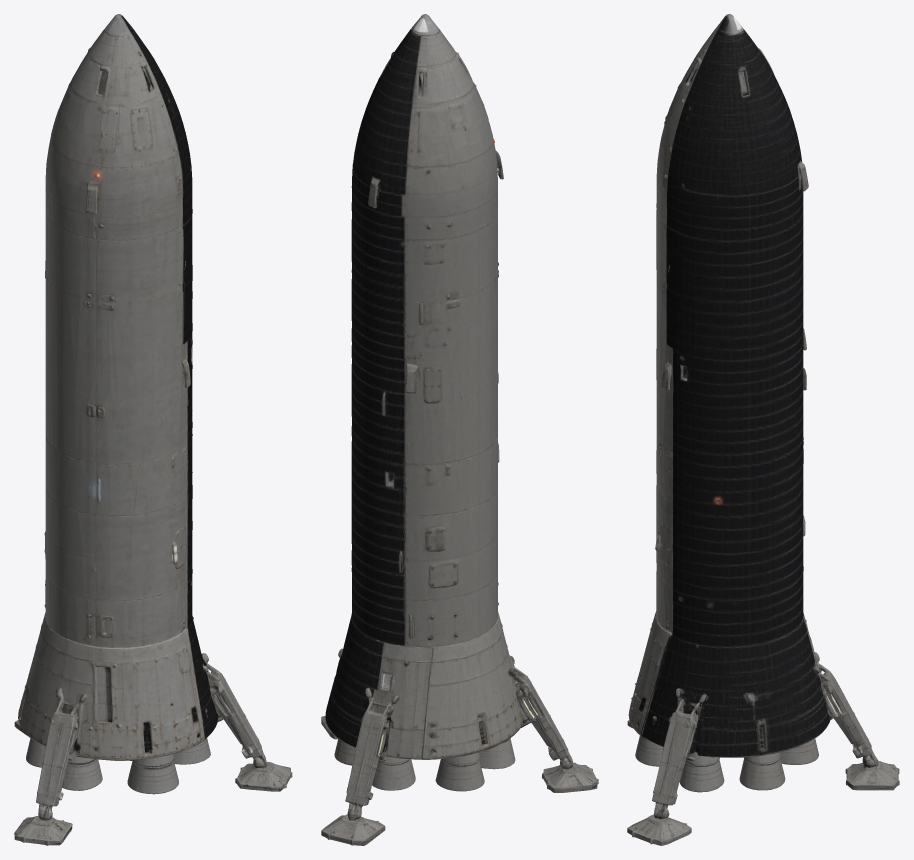
File: parallax-rocket-web.glb
The picture shows the model from 3 angles, left to right: view 1: azimuth 30°, elevation 25°; view 2: azimuth 150°, elevation 25°; view 3: azimuth 270°, elevation 25°; orthographic projection.
Parts seen in each view (by area): view 1: output_unwrapped; view 2: output_unwrapped; view 3: output_unwrapped.
Part boxes in pixels (<box>): output_unwrapped: <box>14,14,292,845</box>; output_unwrapped: <box>321,14,598,845</box>; output_unwrapped: <box>627,14,899,845</box>.
Bounding box in the file's own units: 0.716 × 1.9 × 0.6135.
1 material, 1 textured.
